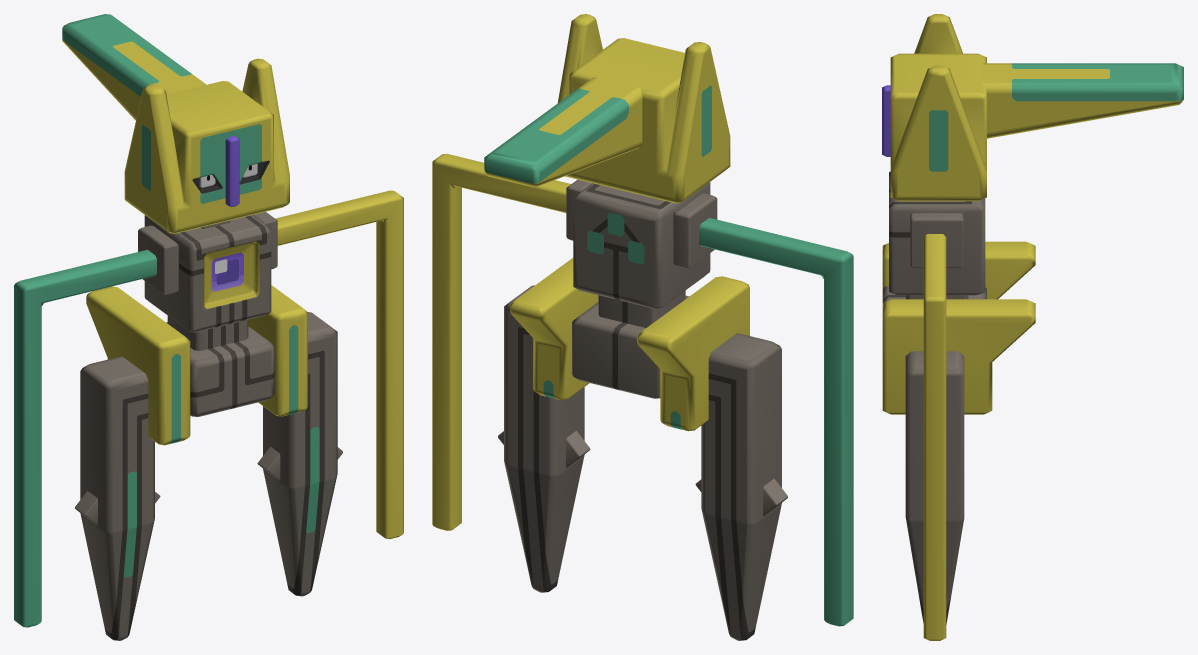
3 views of the same model, side by side, from view 1: azimuth 30°, elevation 25°; view 2: azimuth 150°, elevation 25°; view 3: azimuth 270°, elevation 25° (orthographic). The views are drawn at different scales.
Parts seen in each view (by area): view 1: model; view 2: model; view 3: model.
Boxes of the visible parts, <box> form: model: <box>14,14,403,640</box>; model: <box>432,14,853,640</box>; model: <box>882,14,1183,640</box>.
Size of the model in its own units: 3.23 by 4.36 by 2.2.
